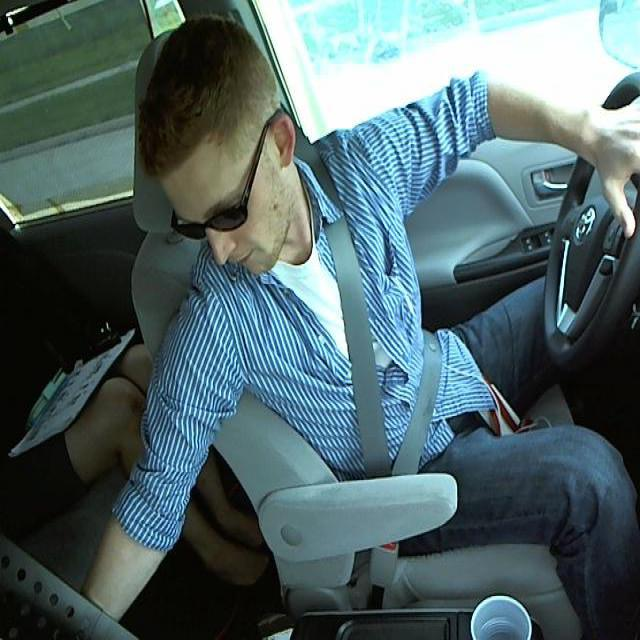seatbelt: (325, 205, 458, 476)
